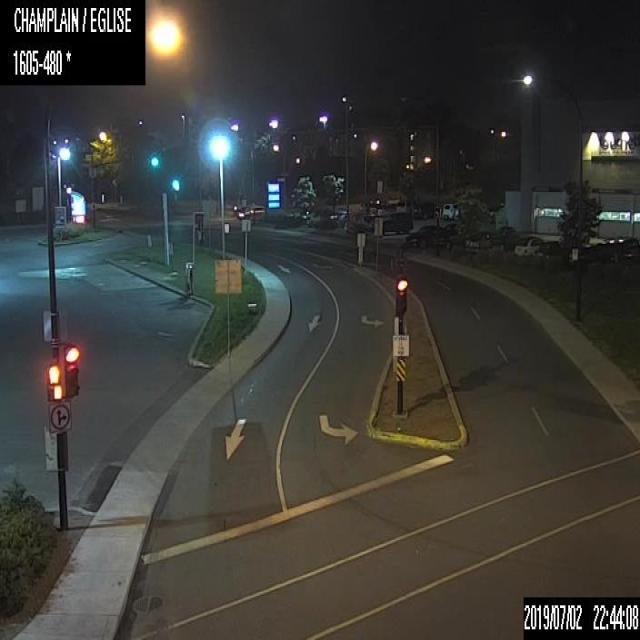vehicle: (429, 221, 465, 251), (368, 210, 413, 233), (462, 230, 505, 254), (405, 224, 443, 248), (567, 242, 595, 265), (513, 236, 544, 256), (341, 212, 373, 230), (537, 239, 565, 256), (236, 204, 265, 220), (412, 200, 434, 219), (327, 208, 349, 225), (442, 202, 458, 218), (496, 224, 516, 236), (395, 199, 412, 213)
